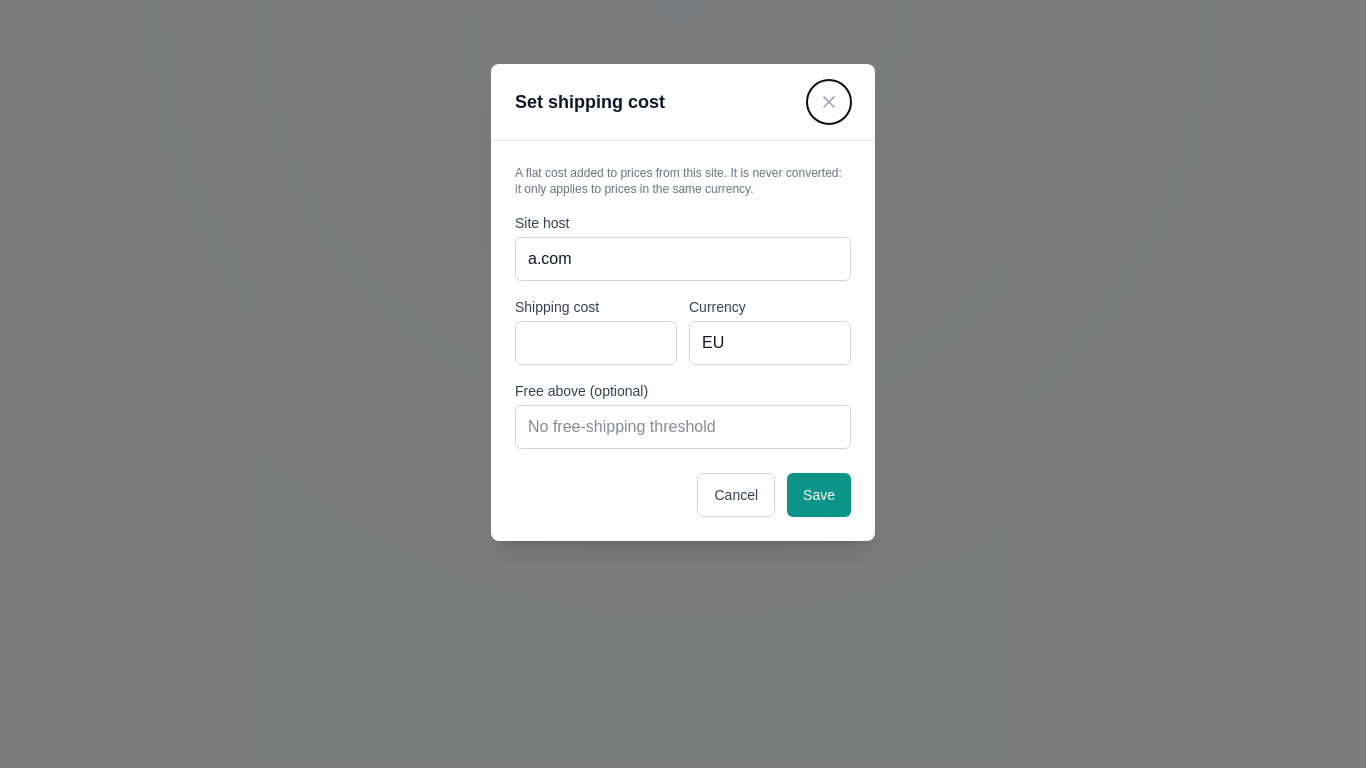
Scenario: ShippingRateModal › should show server validation messages next to their fields when the server returns 400
The width and height of the screenshot is (1366, 768).
Type "4" into the number field labelled "Shipping cost" at point(596, 343), box [515,321,677,365]
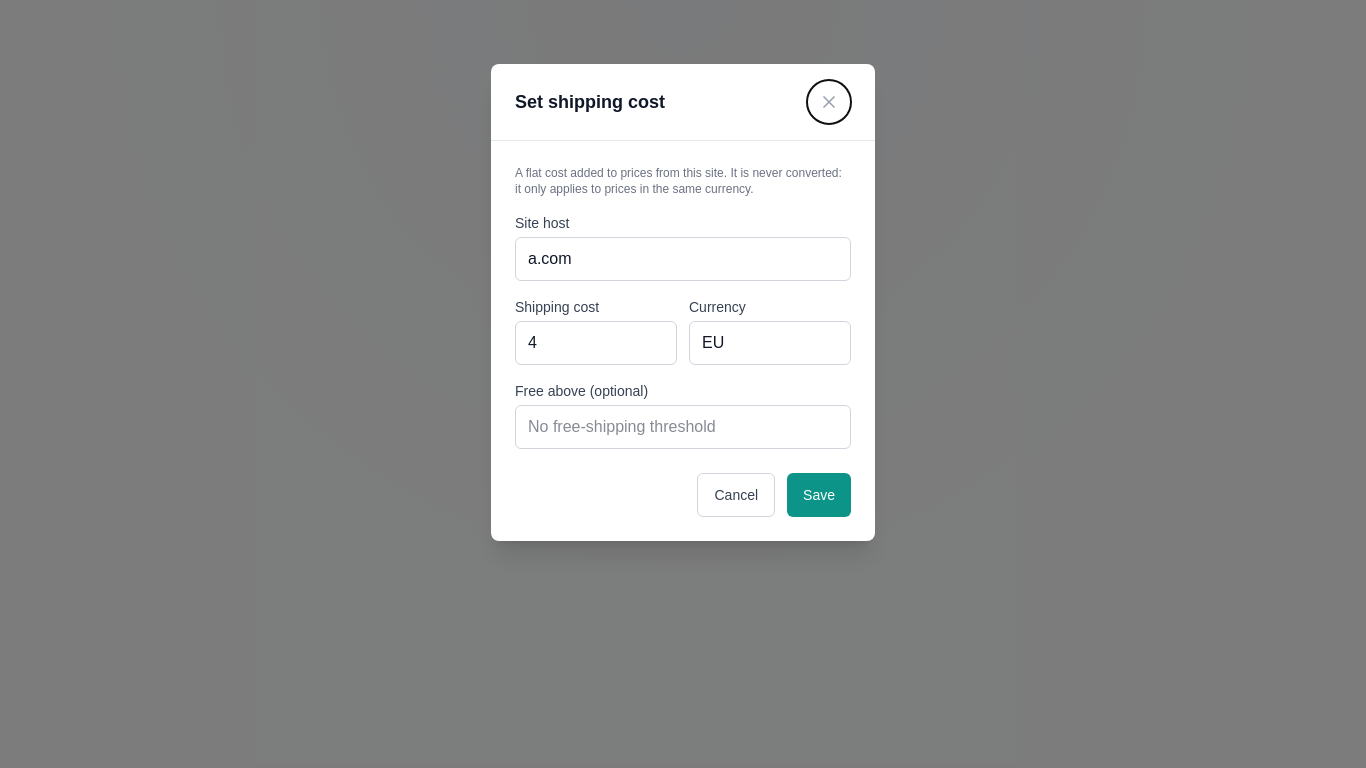
Click the button "Save" at point(819, 495), box [787,473,851,517]
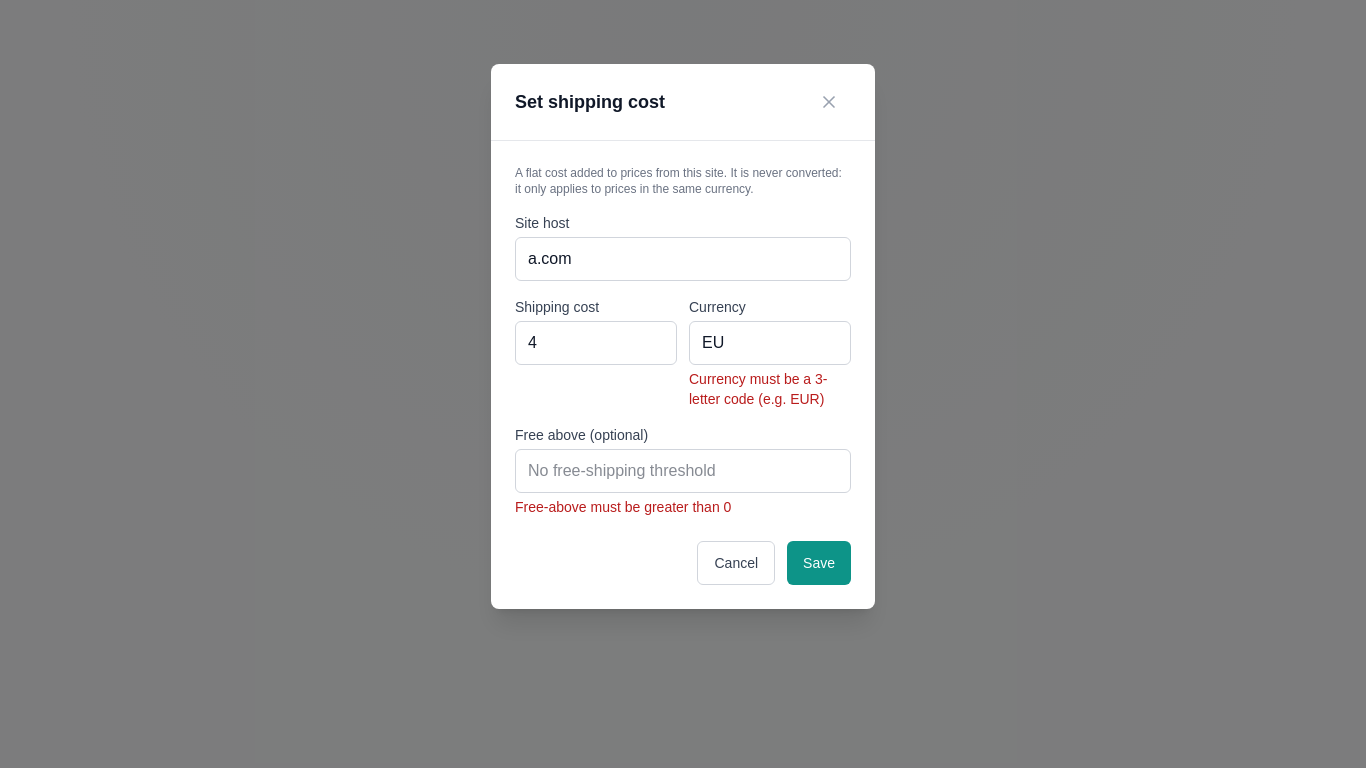
expect the text "Currency must be a 3-letter code (e.g. EUR)" is shown: met, box [689,369,851,409]
expect the text "Free-above must be greater than 0" is shown: met, box [515,499,731,515]
